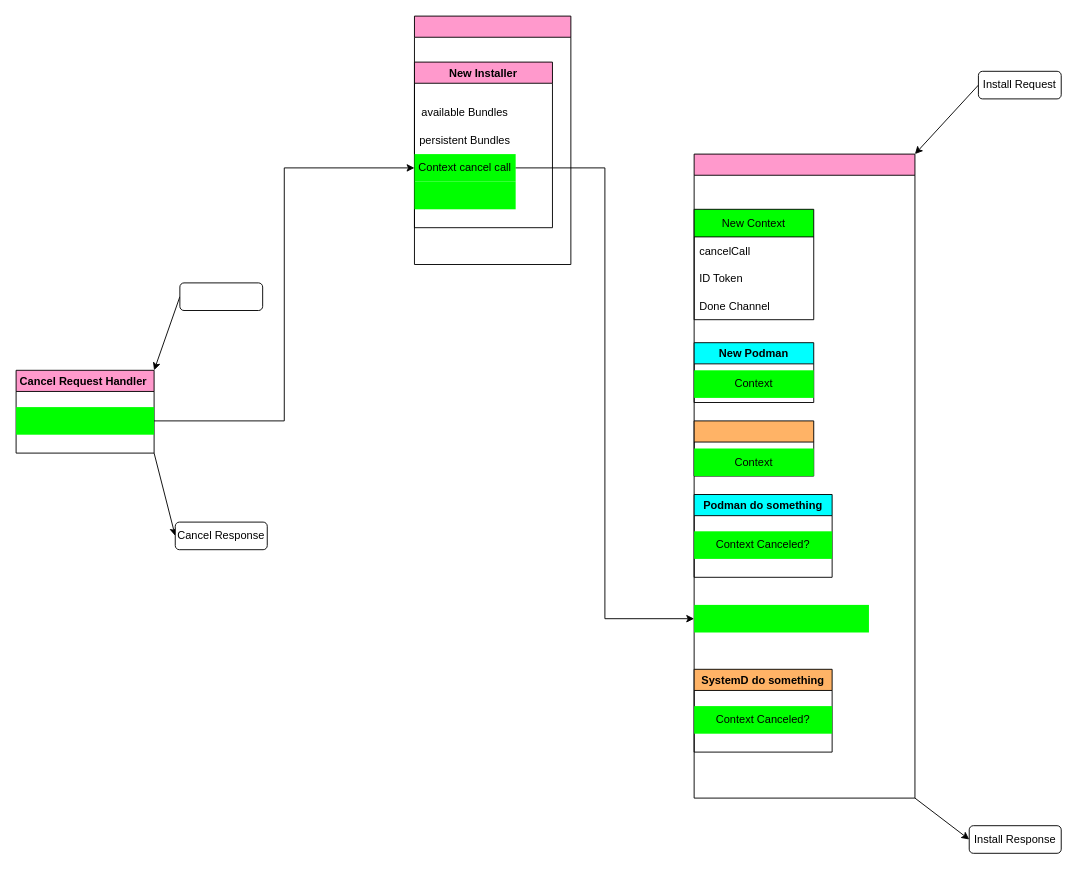
Image size: 1077x869. Some labels were removed from this diagram. Here are the shapes that lost their labels. From the top down, the box of each, then its label:
(414, 15, 571, 264): GRPC Server Setup
(414, 181, 515, 209): Mutex
(179, 282, 263, 310): Cancel Request
(16, 407, 154, 434): Cancel Context!
(693, 420, 814, 476): New SystemD
(693, 153, 915, 798): Install Request Handler
(694, 604, 868, 632): Context Canceled? -> return err
